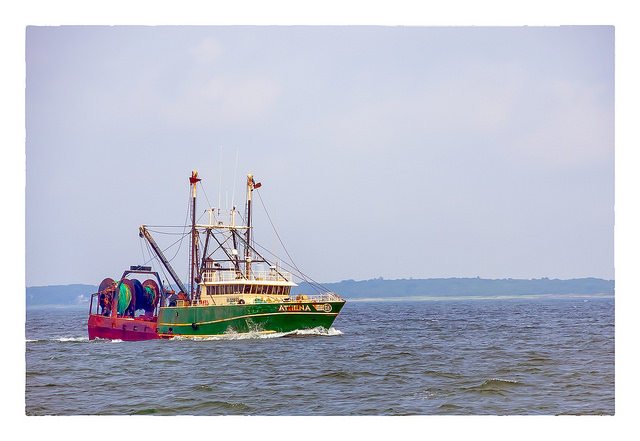fishing_boat: (85, 168, 343, 344)
